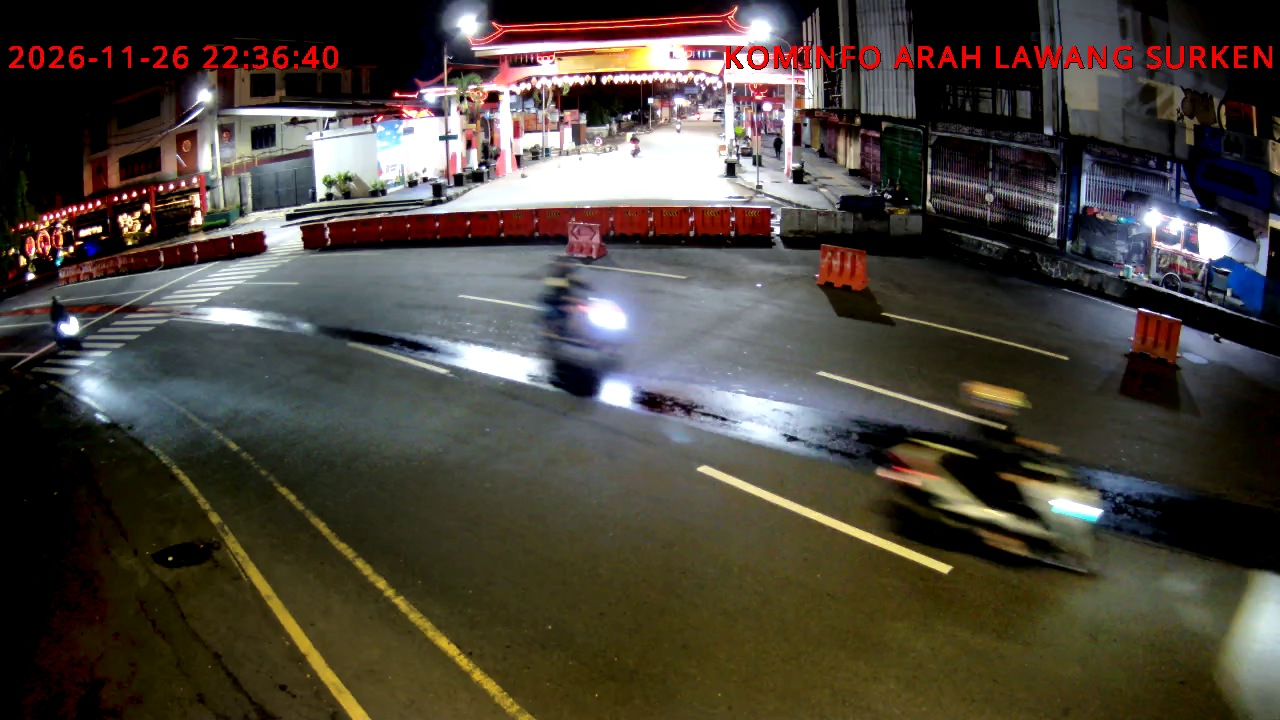Gerobak: (1079, 194, 1229, 300)
